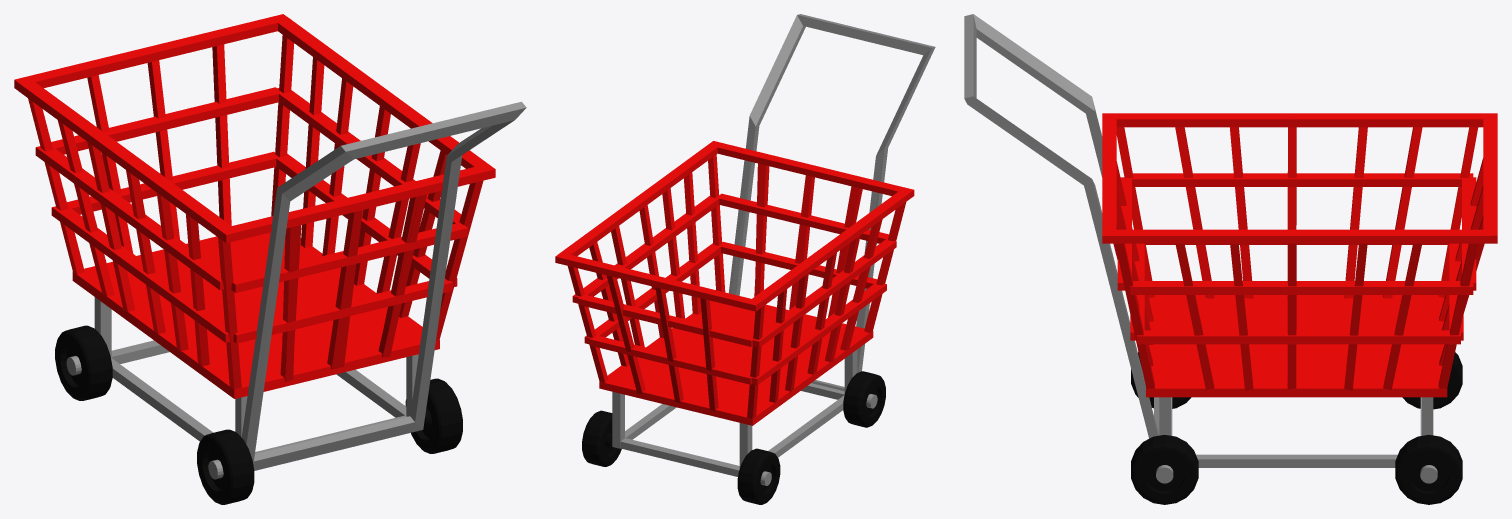
Rendered from ShoppingCart.obj.
3 views of the same model, side by side, from view 1: azimuth 30°, elevation 25°; view 2: azimuth 150°, elevation 25°; view 3: azimuth 270°, elevation 25° (orthographic). The views are drawn at different scales.
Visible parts, largest first — view 1: Box046_1, Box055_1, Box079_1, Box084_1, Box060_1, Box078_1, Box044_1, Box071_1, Cylinder005_1, Cylinder006_1, Box072_1, Box063_1 (+29 smaller); view 2: Box046_1, Box055_1, Box060_1, Box084_1, Box079_1, Box078_1, Box044_1, Box071_1, Box063_1, Cylinder005_1, Box072_1, Cylinder006_1 (+29 smaller); view 3: Box046_1, Box055_1, Box078_1, Box079_1, Box070_1, Box056_1, Box071_1, Cylinder007_1, Cylinder008_2, Box060_1, Box084_1, Box044_1 (+19 smaller).
Part boxes in pixels (left/top/right/bottom): Box046_1: left=72, top=232, right=439, bottom=398; Box055_1: left=241, top=101, right=526, bottom=470; Box079_1: left=18, top=79, right=239, bottom=243; Box084_1: left=14, top=14, right=290, bottom=90; Box060_1: left=111, top=340, right=406, bottom=453; Box078_1: left=276, top=17, right=495, bottom=180; Box044_1: left=219, top=167, right=493, bottom=239; Box071_1: left=35, top=146, right=223, bottom=290; Cylinder005_1: left=55, top=325, right=112, bottom=400; Cylinder006_1: left=197, top=429, right=254, bottom=504; Box072_1: left=51, top=206, right=238, bottom=342; Box063_1: left=51, top=87, right=281, bottom=154; Box046_1: left=599, top=300, right=873, bottom=425; Box055_1: left=728, top=14, right=935, bottom=391; Box060_1: left=620, top=383, right=844, bottom=476; Box084_1: left=555, top=253, right=760, bottom=311; Box079_1: left=752, top=187, right=914, bottom=309; Box078_1: left=558, top=141, right=720, bottom=256; Box044_1: left=711, top=141, right=913, bottom=195; Box071_1: left=750, top=239, right=896, bottom=347; Box063_1: left=578, top=294, right=753, bottom=346; Cylinder005_1: left=737, top=448, right=780, bottom=504; Box072_1: left=751, top=283, right=886, bottom=385; Cylinder006_1: left=843, top=371, right=885, bottom=427; Box046_1: left=1146, top=295, right=1447, bottom=397; Box055_1: left=964, top=14, right=1159, bottom=438; Box078_1: left=1102, top=229, right=1490, bottom=243; Box079_1: left=1102, top=113, right=1483, bottom=127; Box070_1: left=1137, top=330, right=1460, bottom=344; Box056_1: left=1130, top=281, right=1473, bottom=294; Box071_1: left=1130, top=173, right=1473, bottom=186; Cylinder007_1: left=1395, top=435, right=1462, bottom=504; Cylinder008_2: left=1131, top=435, right=1198, bottom=504; Box060_1: left=1171, top=397, right=1421, bottom=467; Box084_1: left=1483, top=113, right=1497, bottom=243; Box044_1: left=1102, top=113, right=1116, bottom=235.
Bounding box in the file's own units: 0.6604 × 1 × 1.22.
